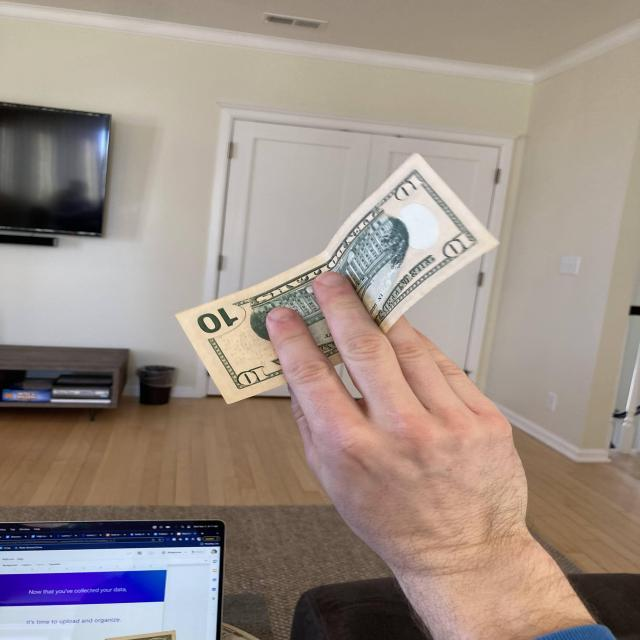ten: (173, 151, 502, 406)
